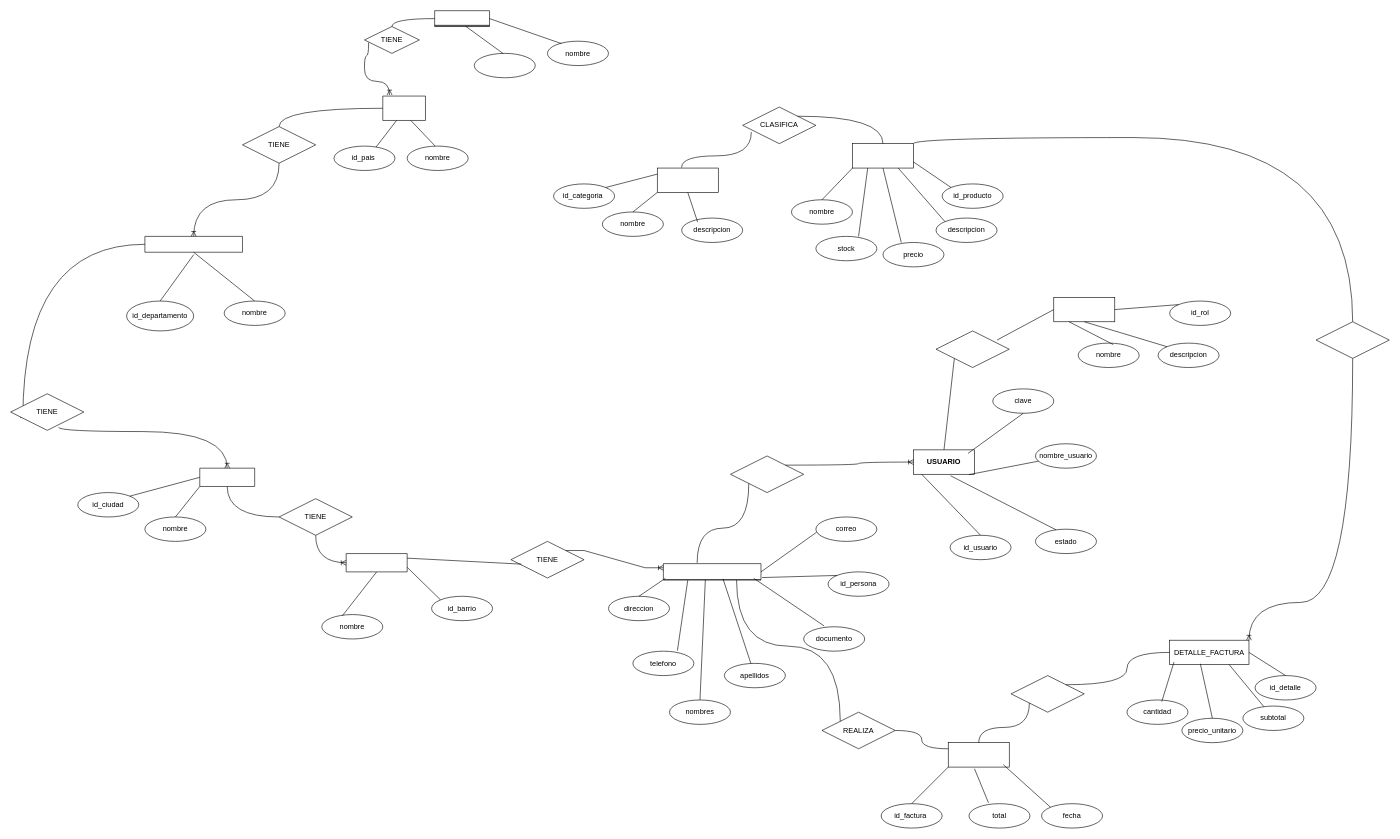
Some shapes in this 1400 by 839 pixel diagram are drawn without their labels. Each missing label, with the centre of its shape:
APARECE EN: pixel 1352 339
ASIGNA: pixel 972 349
BARRIO: pixel 376 562
CATEGORIA: pixel 687 179
CIUDAD: pixel 227 477
CONTIENE: pixel 1047 693
CONTINENTE: pixel 462 18
DEPARTAMENTO: pixel 193 244
FACTURA: pixel 978 754
id_continente: pixel 504 65
PAIS: pixel 403 107
PERSONA: pixel 712 571
PRODUCTO: pixel 882 155
ROLES: pixel 1084 309
USA: pixel 767 474
